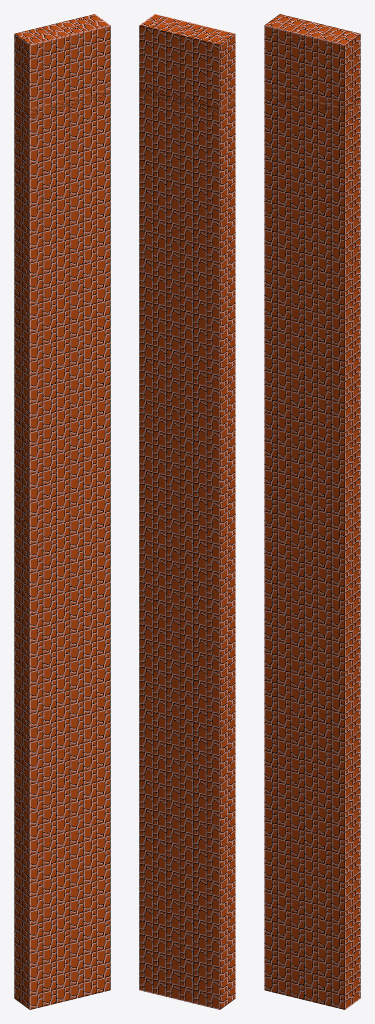
The model's file is up_floor1.obj.
3 views of the same model, side by side, from view 1: azimuth 30°, elevation 25°; view 2: azimuth 150°, elevation 25°; view 3: azimuth 330°, elevation 25° (orthographic).
Visible parts, largest first — view 1: Cube; view 2: Cube; view 3: Cube.
Part boxes in pixels (<box>): Cube: <box>14,14,110,1009</box>; Cube: <box>139,14,235,1009</box>; Cube: <box>264,14,360,1009</box>.
Size of the model in its own units: 960 by 10960 by 320.
